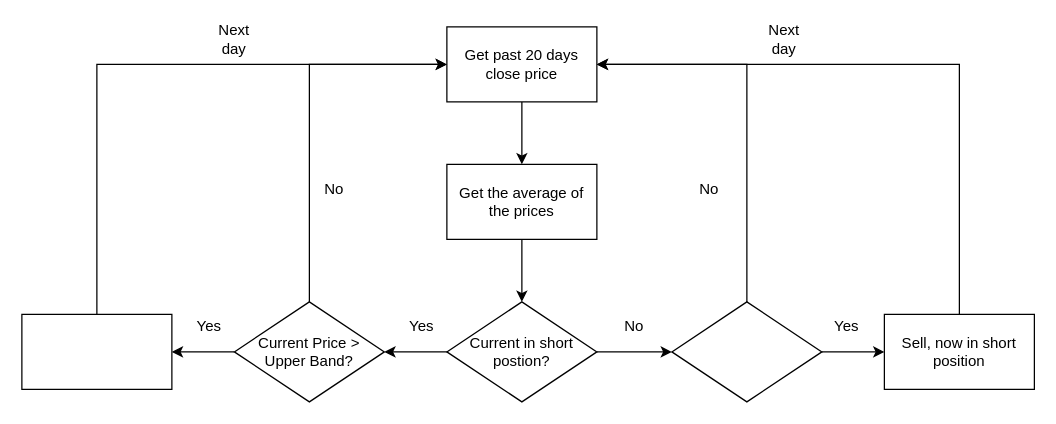
Image size: 1056x424. Some labels were removed from this diagram. The centre of each missing label's shape, as x and y in pixels:
"Buy, now in long position" belongs at [96,351].
"Current Price < Lower Band?" belongs at [746,351].
